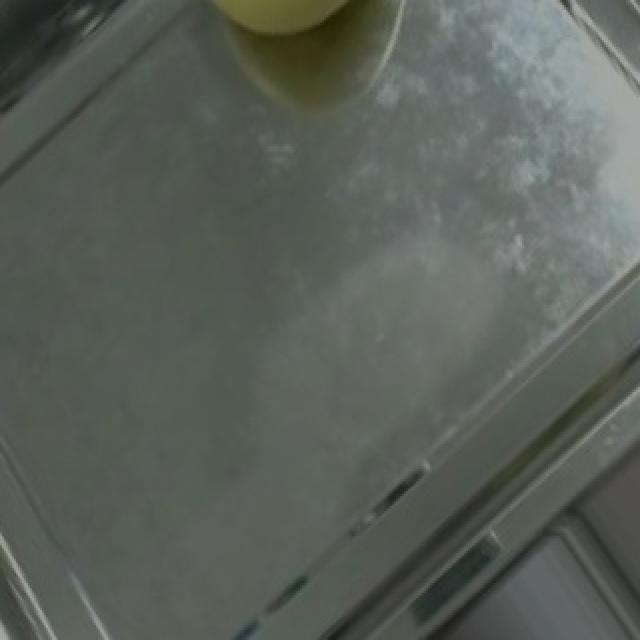Fruit: (156, 0, 400, 72)
